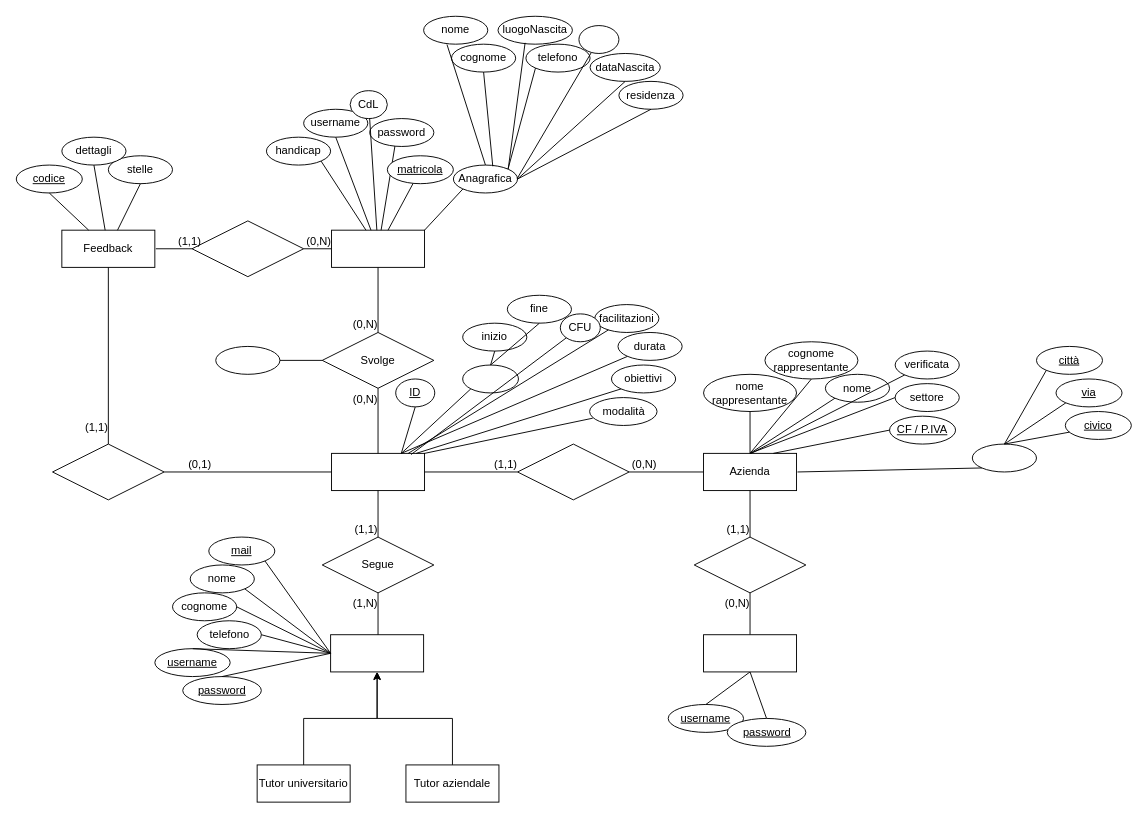
The diagram is 1148 pixels wide and 818 high, and some of its shapes have lost their labels. The shapes that lost their labels are listed below. From the top down, each one's box as (x1, y1, x2, y2) in pixels, then its label:
(578, 25, 619, 53): CF
(191, 220, 304, 277): Rilascia
(331, 229, 425, 267): Studente
(215, 345, 280, 374): esito
(462, 364, 518, 393): orari
(52, 443, 164, 500): Relativo
(331, 452, 425, 491): Tirocinio
(517, 443, 629, 500): Offre
(971, 443, 1036, 472): sede
(693, 536, 806, 593): Verifica
(330, 634, 424, 672): Tutor
(703, 634, 797, 672): amministratore
